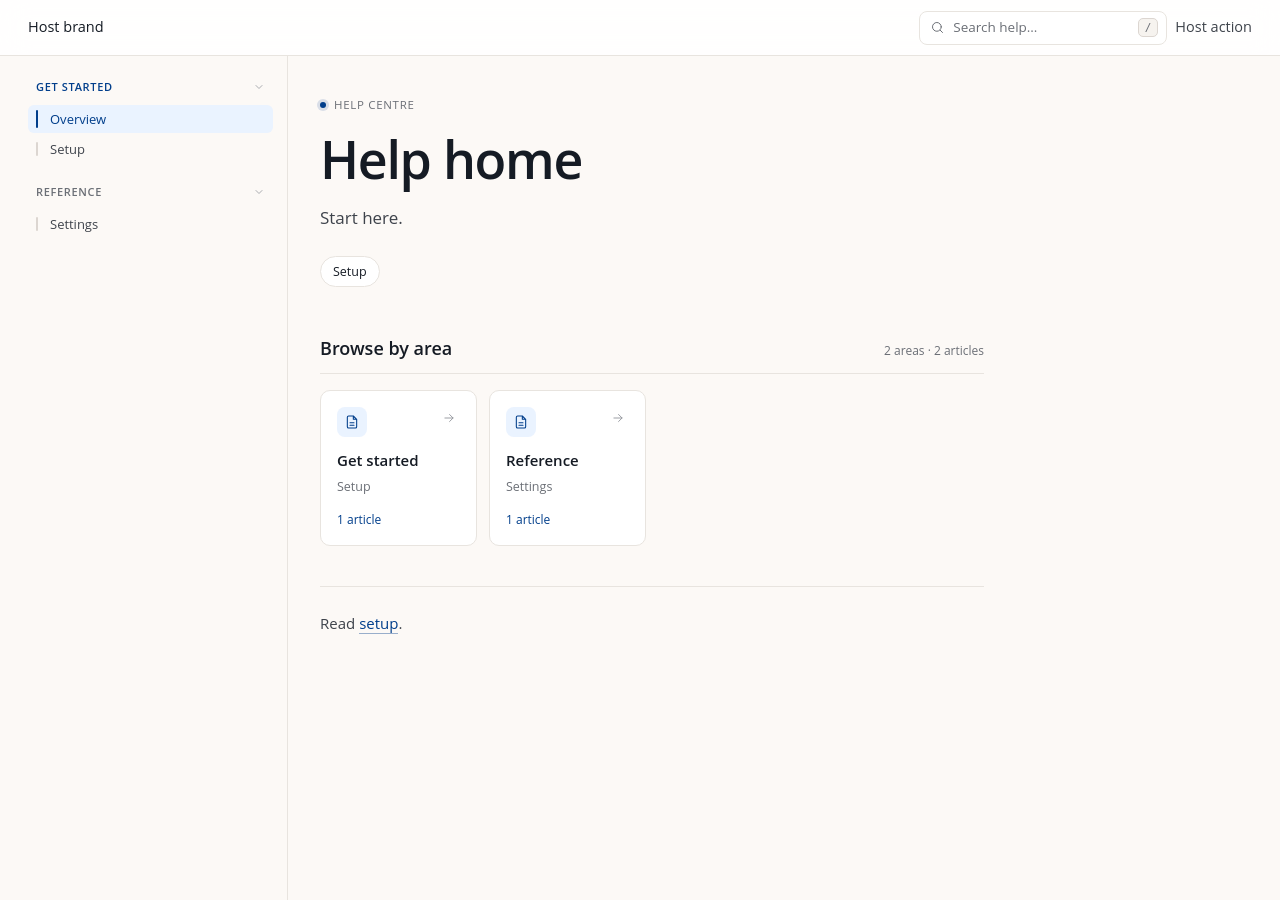
Test: HelpCenter › searches the help and opens a result
Type "currency" into the search field named "Search help" at (1042, 27), box [953, 17, 1130, 38]
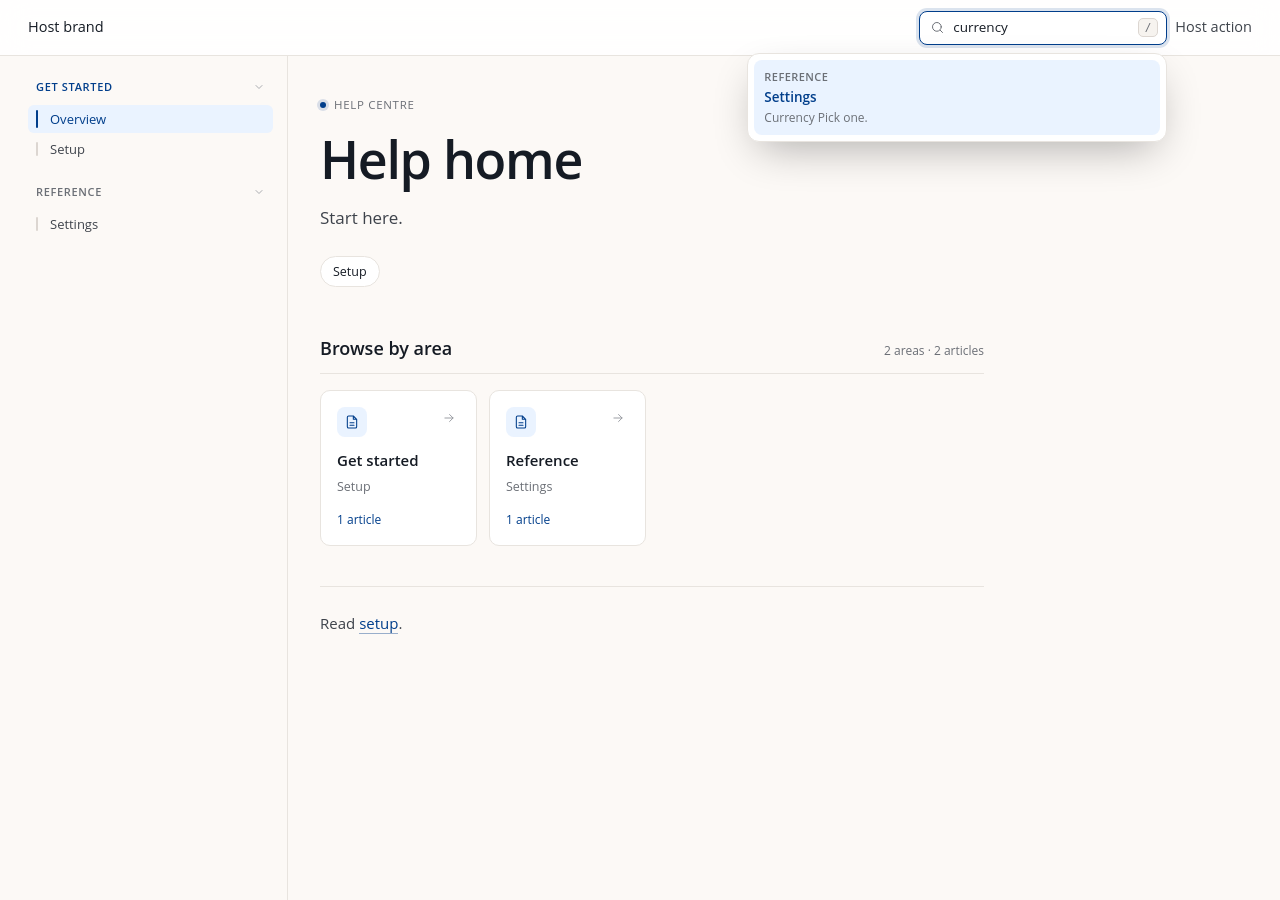
Click the link "Reference Settings Currency Pick one." at (796, 76), box [754, 60, 1160, 135]
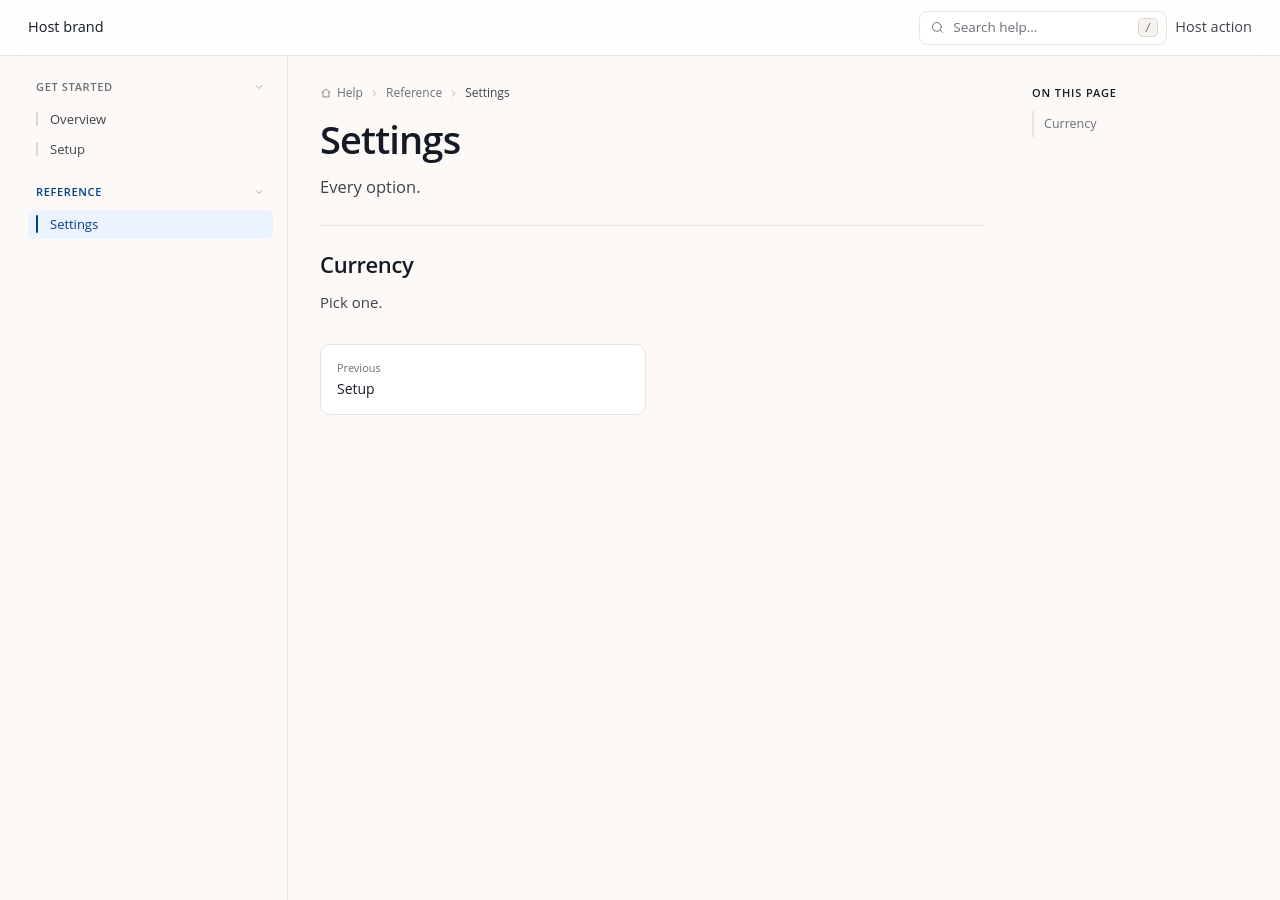
Now the heading "Settings" is shown, box [320, 113, 460, 165]
Now the search field named "Search help" is empty, box [953, 17, 1130, 38]
